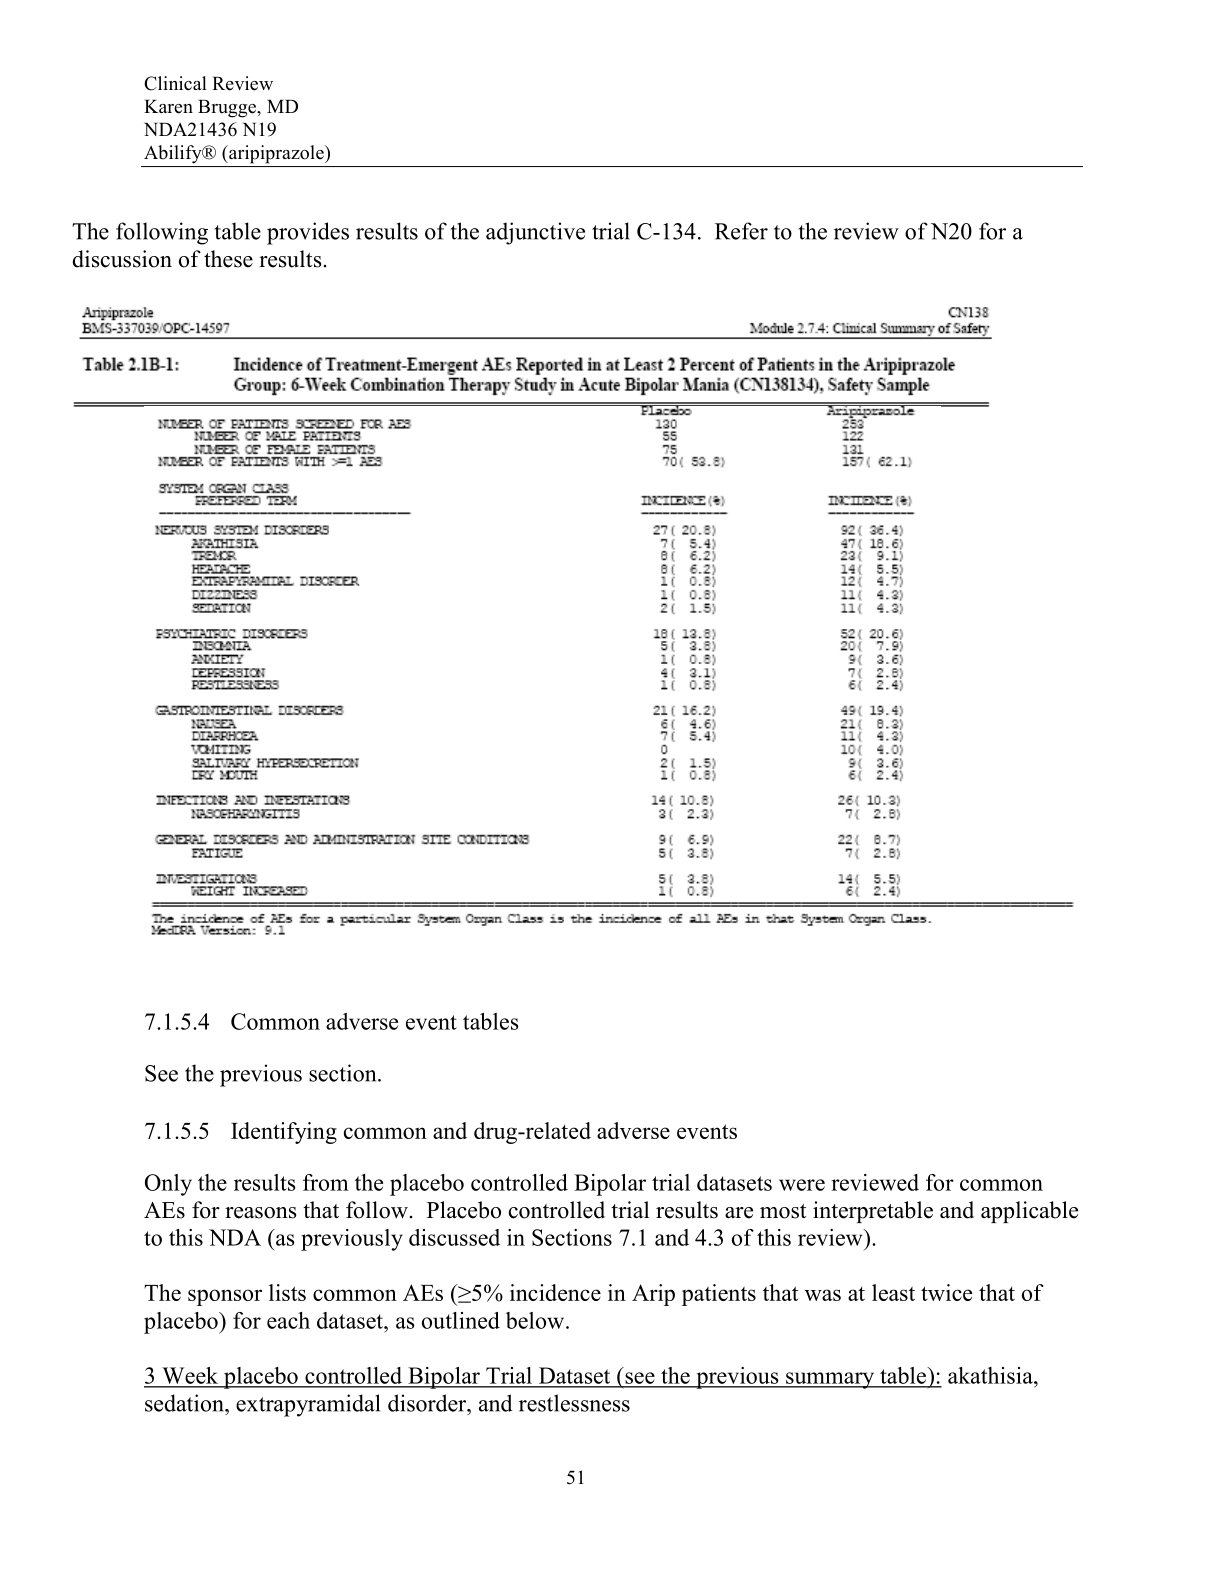partial_lined: (71, 400, 1074, 908)
